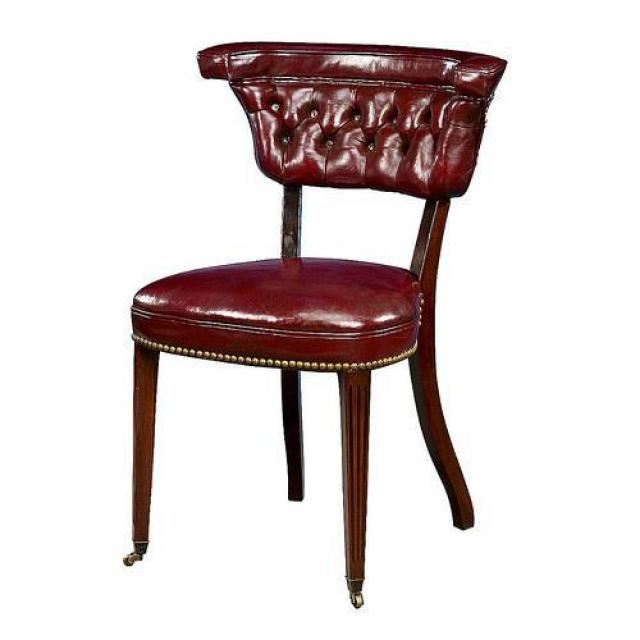chair: (122, 42, 506, 612)
